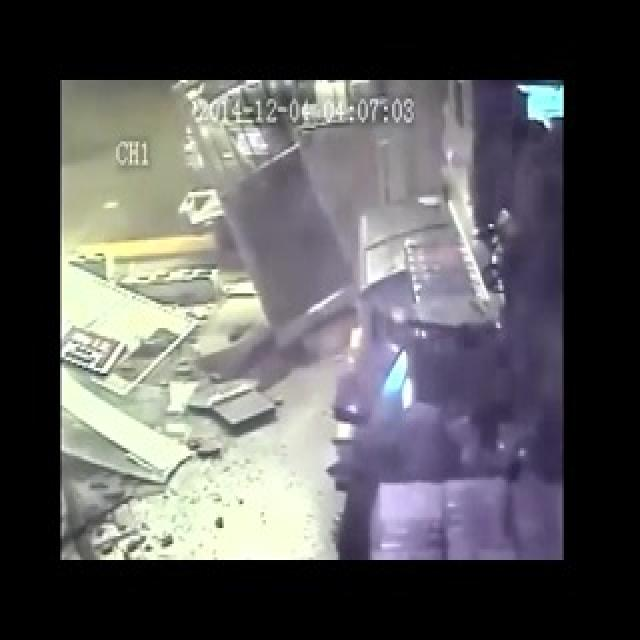burglary: (68, 100, 253, 451)
